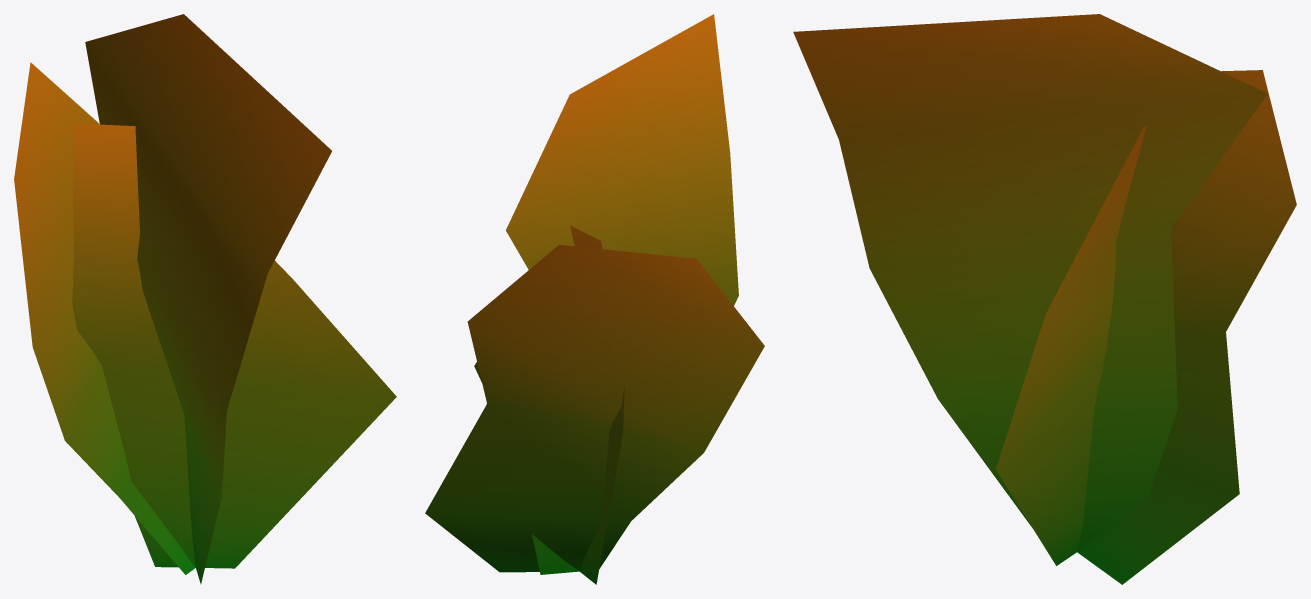
The model's file is Var4_LOD1.fbx.
3 views of the same model, side by side, from view 1: azimuth 30°, elevation 25°; view 2: azimuth 150°, elevation 25°; view 3: azimuth 270°, elevation 25° (orthographic). The views are drawn at different scales.
Visible parts, largest first — view 1: _18eb_Var4_LOD1; view 2: _18eb_Var4_LOD1; view 3: _18eb_Var4_LOD1.
Boxes of the visible parts, bbox=[...] form: _18eb_Var4_LOD1: bbox=[14, 14, 396, 584]; _18eb_Var4_LOD1: bbox=[425, 14, 764, 584]; _18eb_Var4_LOD1: bbox=[793, 14, 1296, 584].
Bounding box in the file's own units: 18.16 × 27.66 × 23.23.
